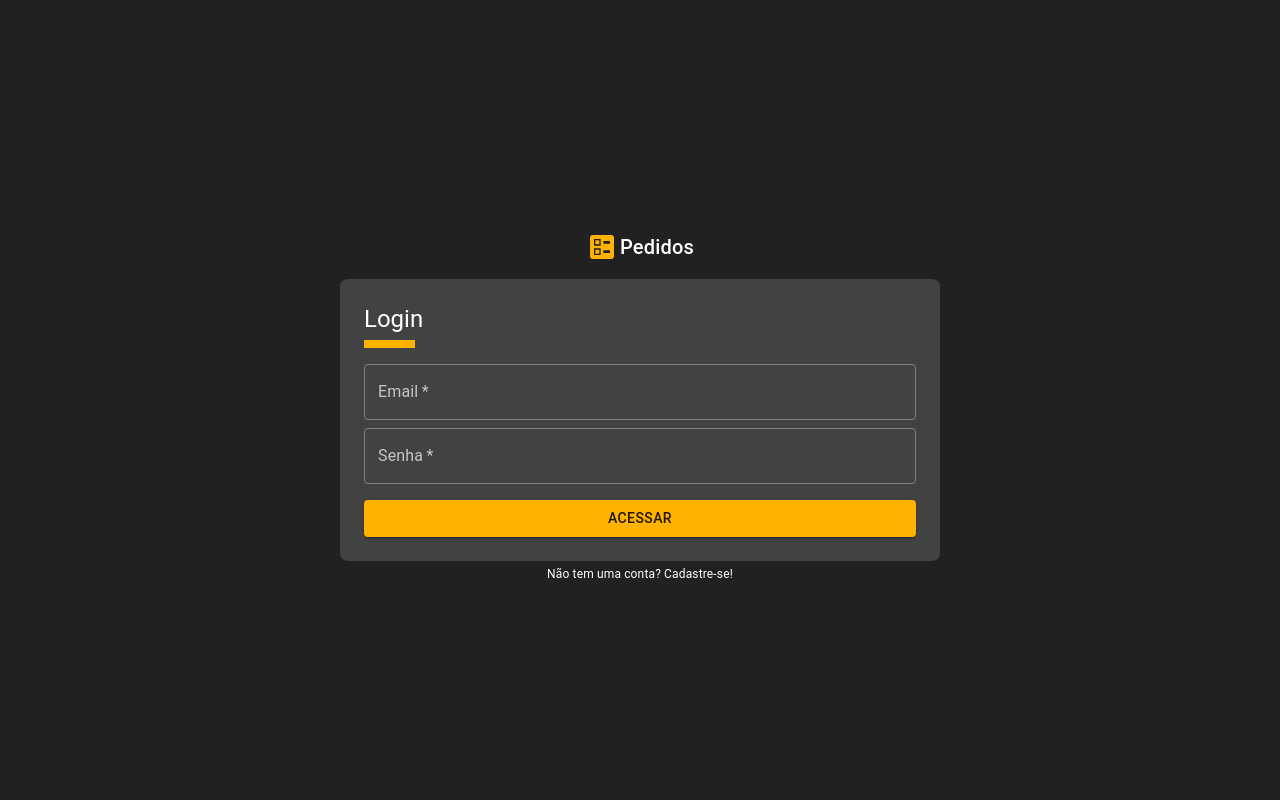
Scenario: <Login /> › Wrong password
Type "teste@teste.com" into the field labelled "Email *" at (640, 392), box top-left (364, 364), bottom-right (916, 420)
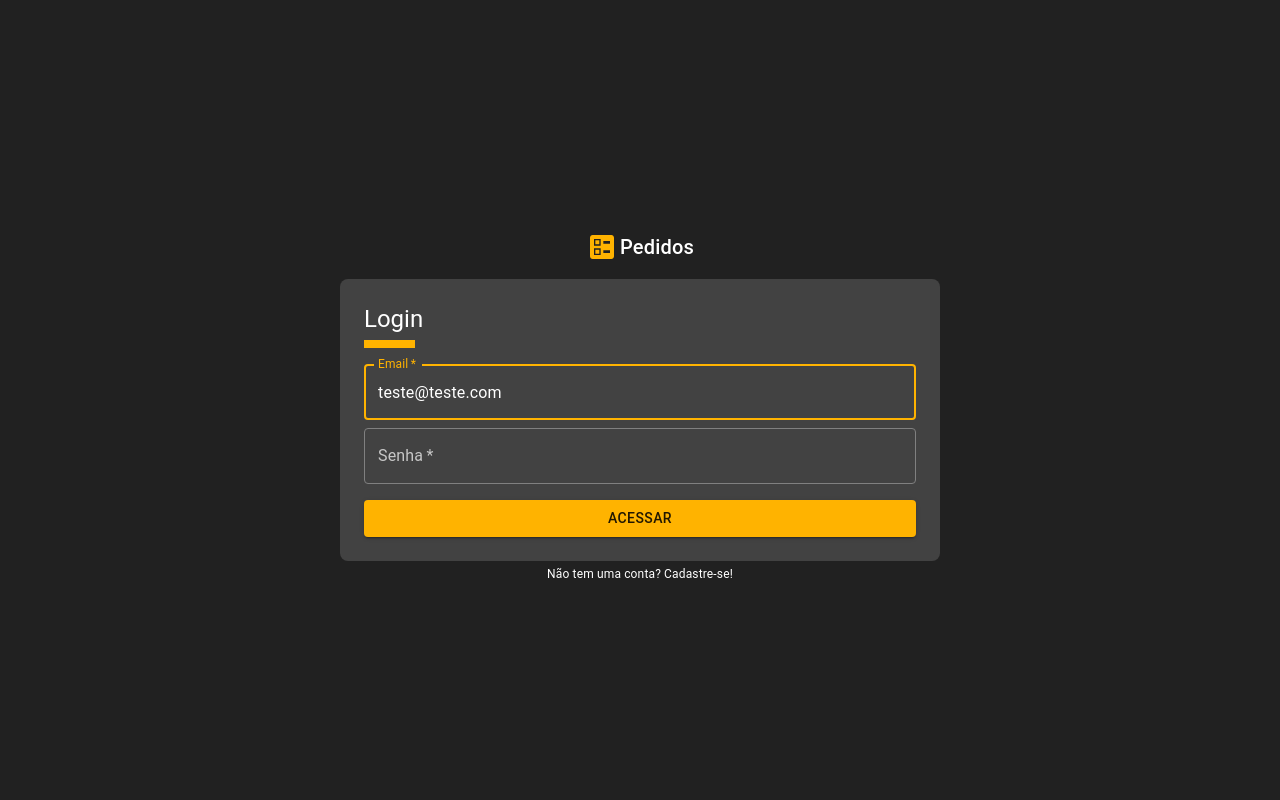
Type "not-exists" into the password field labelled "Senha *" at (640, 456), box top-left (364, 428), bottom-right (916, 484)
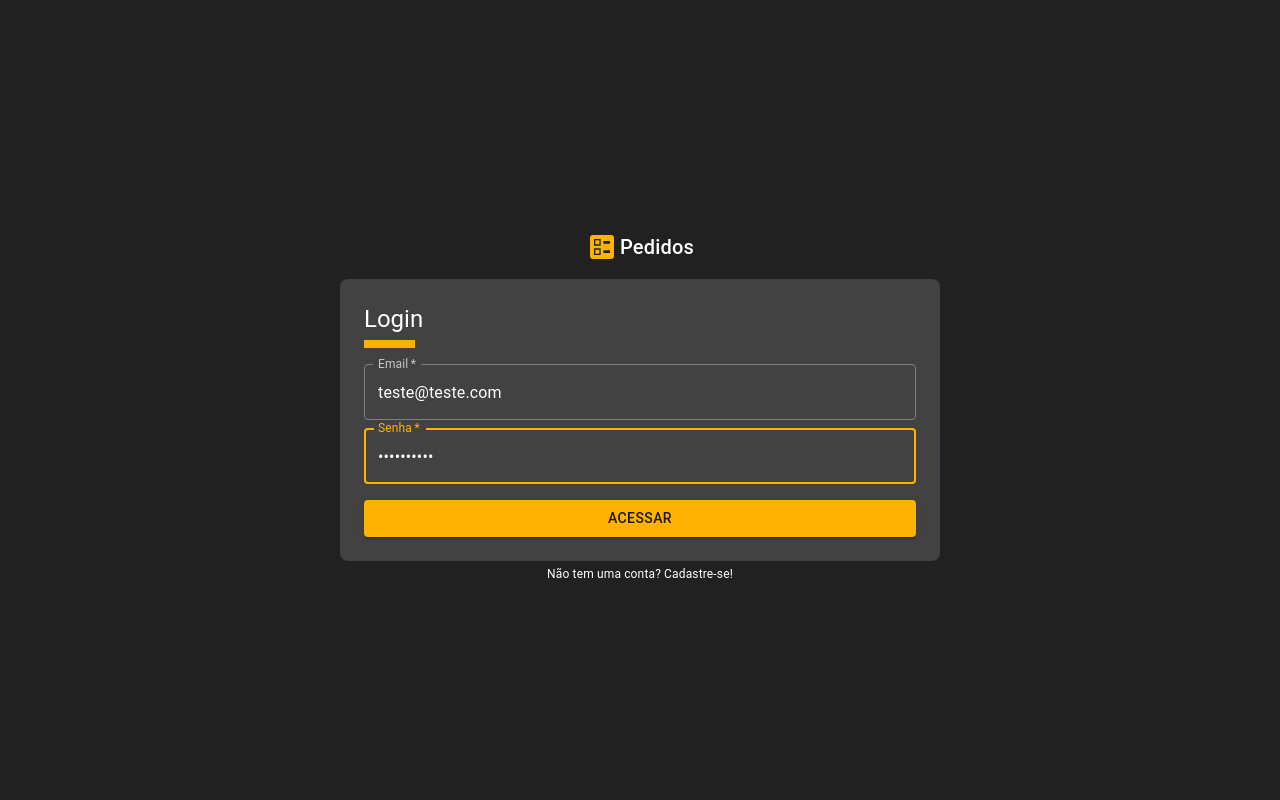
Click the button at (640, 519), box top-left (364, 500), bottom-right (916, 537)
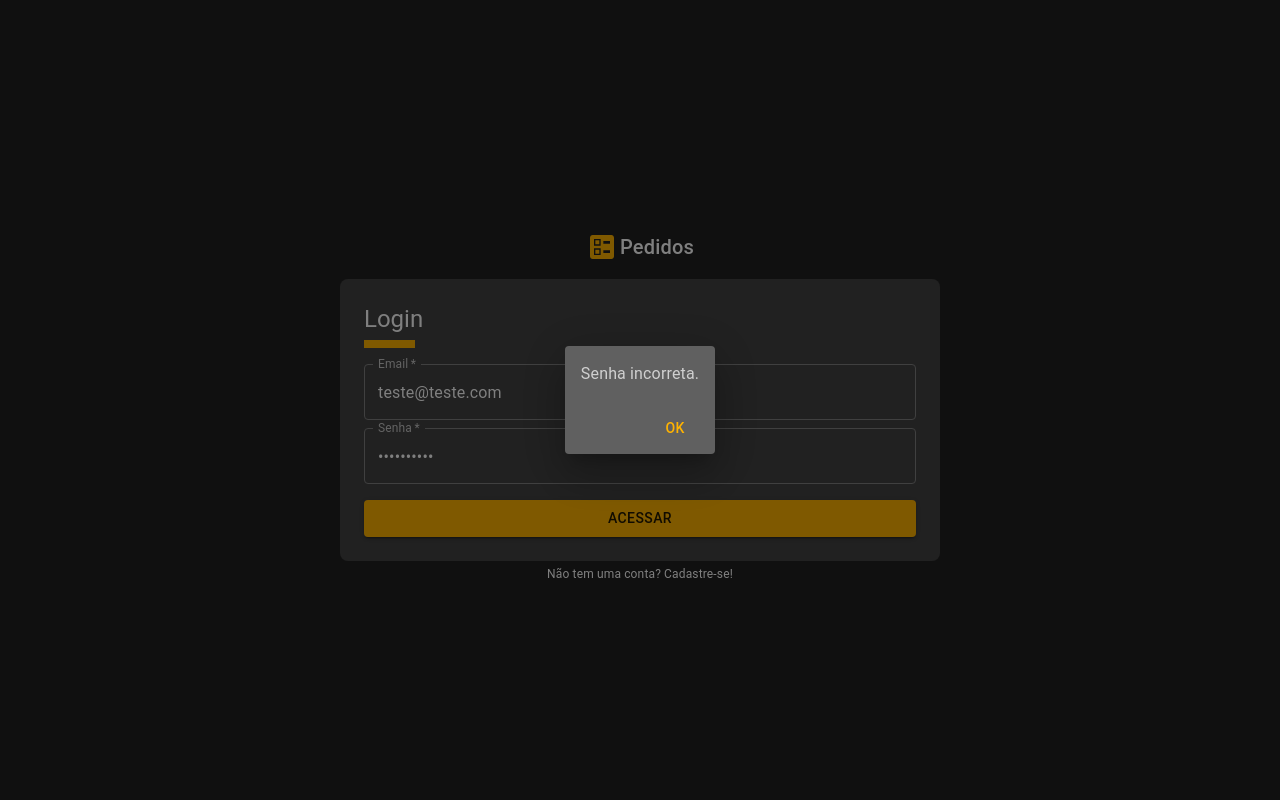
Expected: the text "Senha incorreta." is shown, top-left (581, 364), bottom-right (699, 383)
